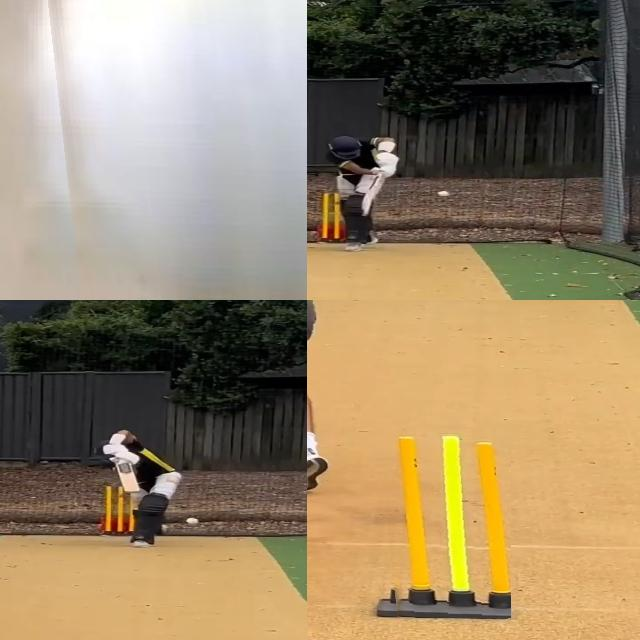Cricket ball: (29, 0, 307, 300), (438, 189, 453, 199), (184, 517, 200, 525)
Stumps: (377, 432, 511, 618), (104, 484, 138, 536)
